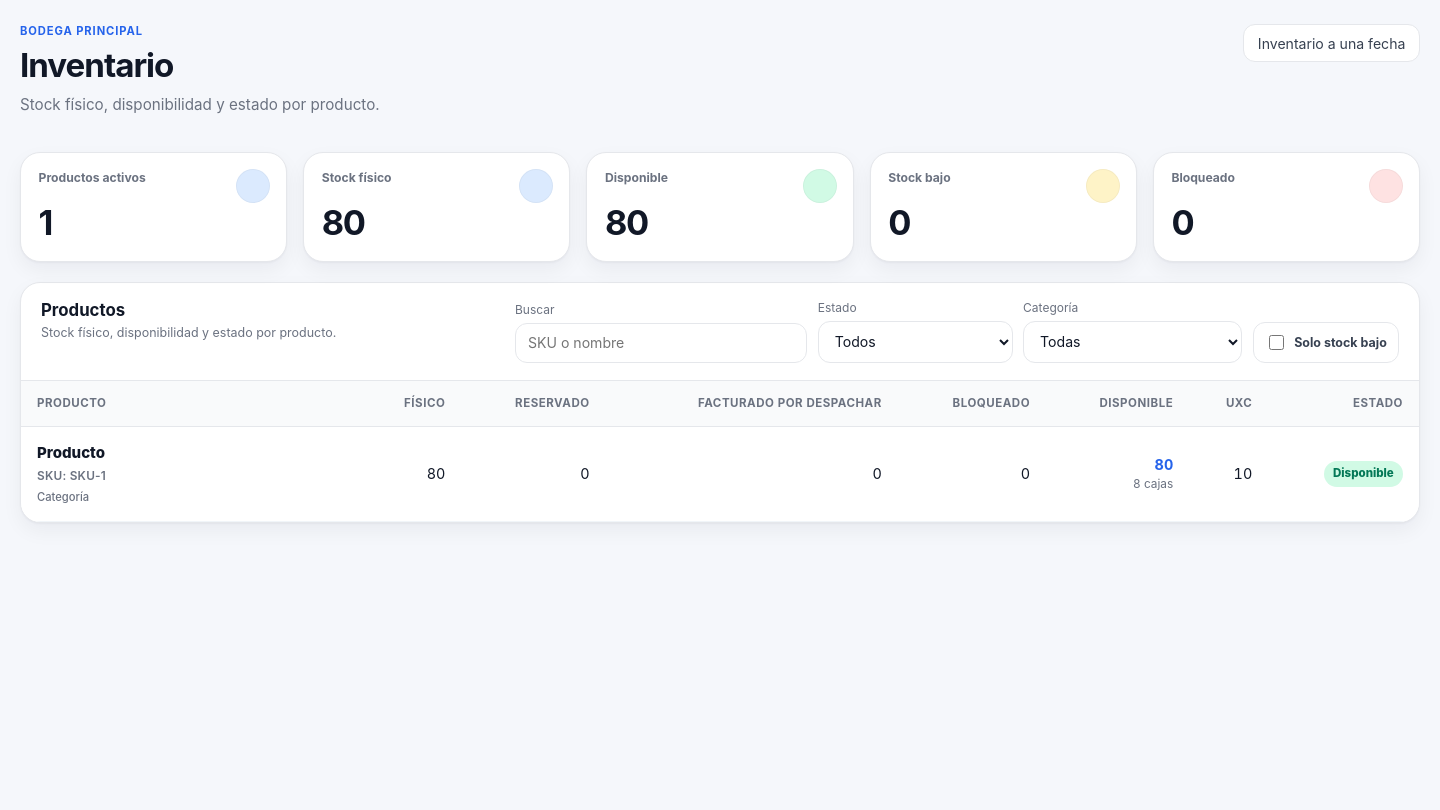
InventoryCenter › consulta el inventario histórico y abre el saldo cronológico
Click the button "Inventario a una fecha" at (1332, 43), box [1243,24,1420,62]
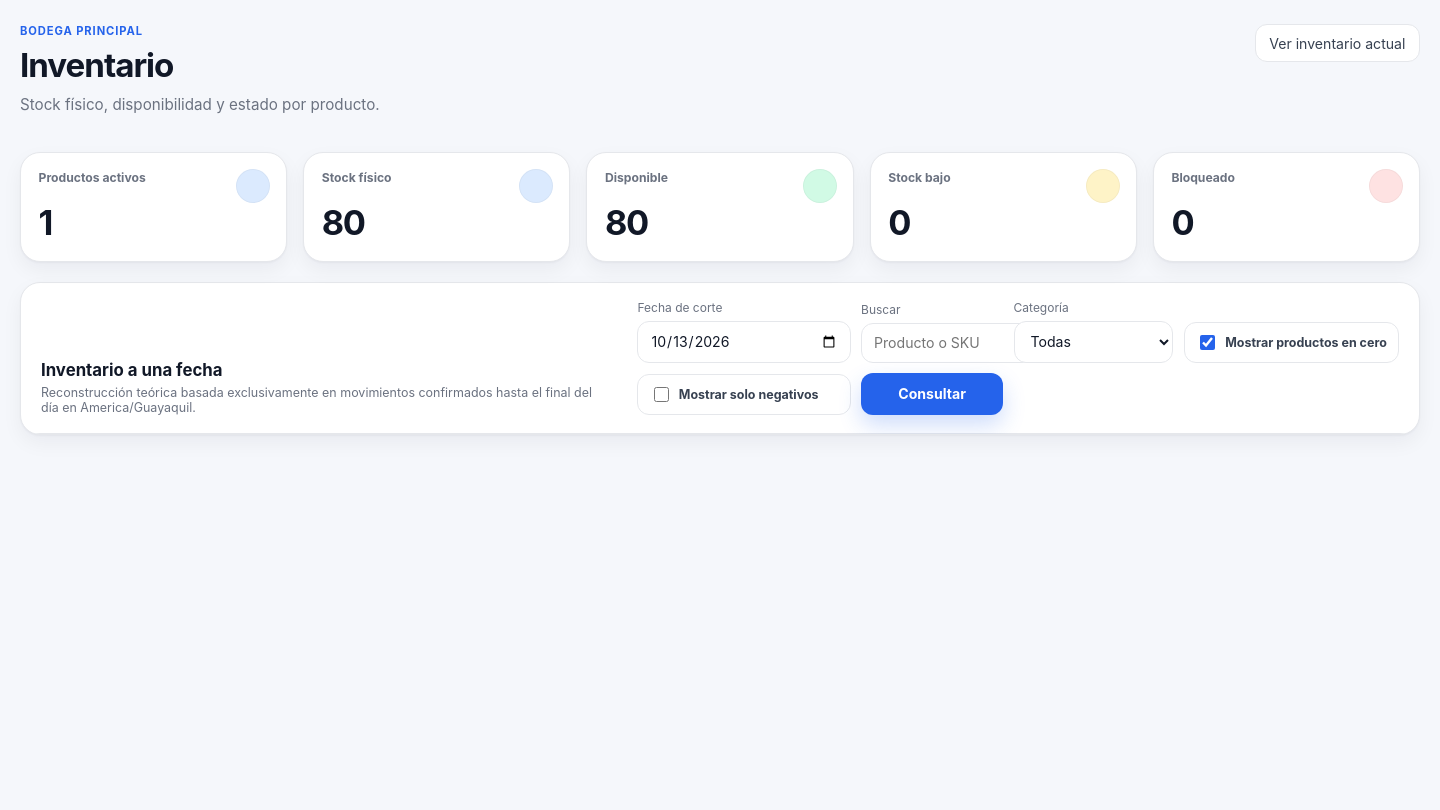
Type "2026-06-17" into the date field labelled "Fecha de corte" at (744, 342), box [638,321,851,363]
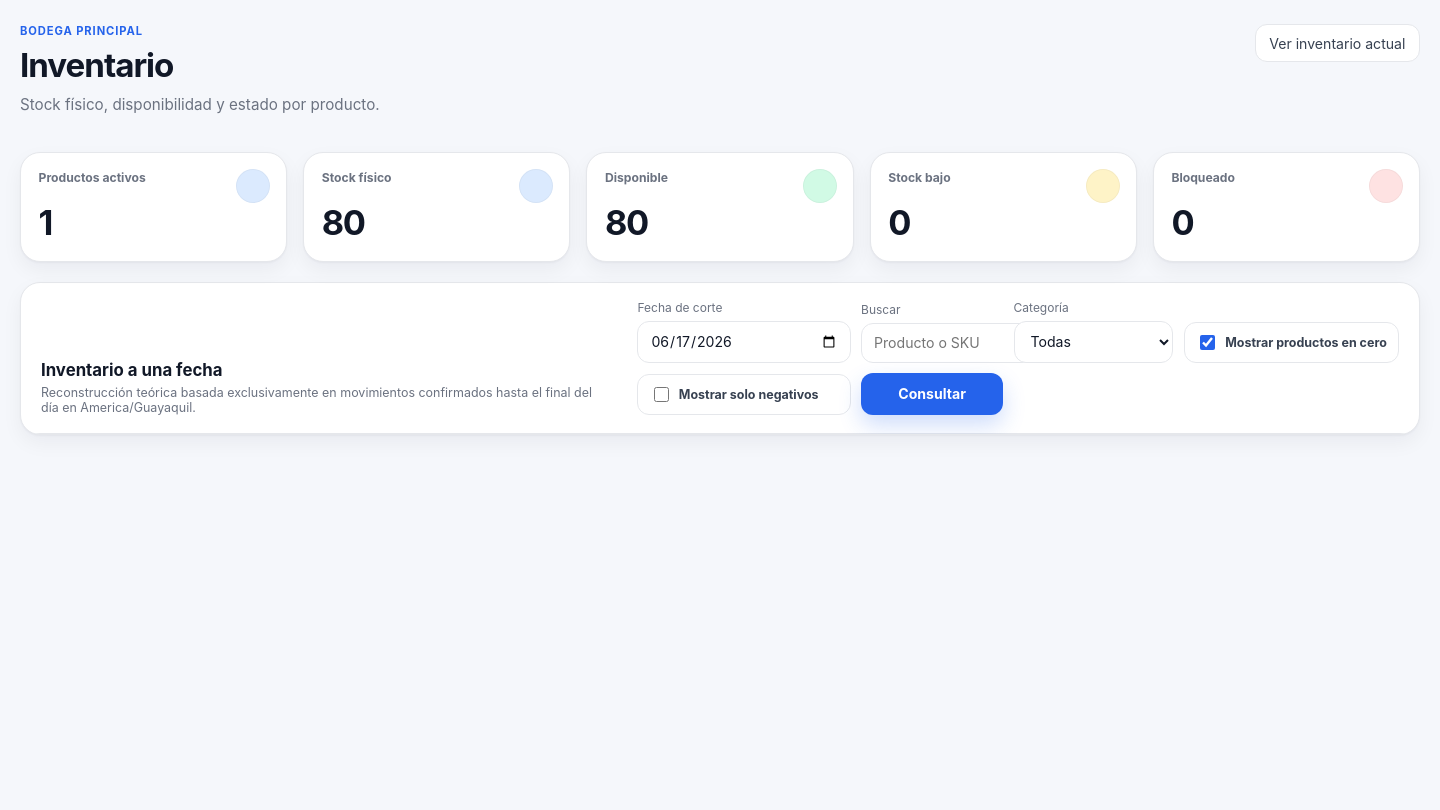
Click the button "Consultar" at (932, 394), box [861,373,1003,415]
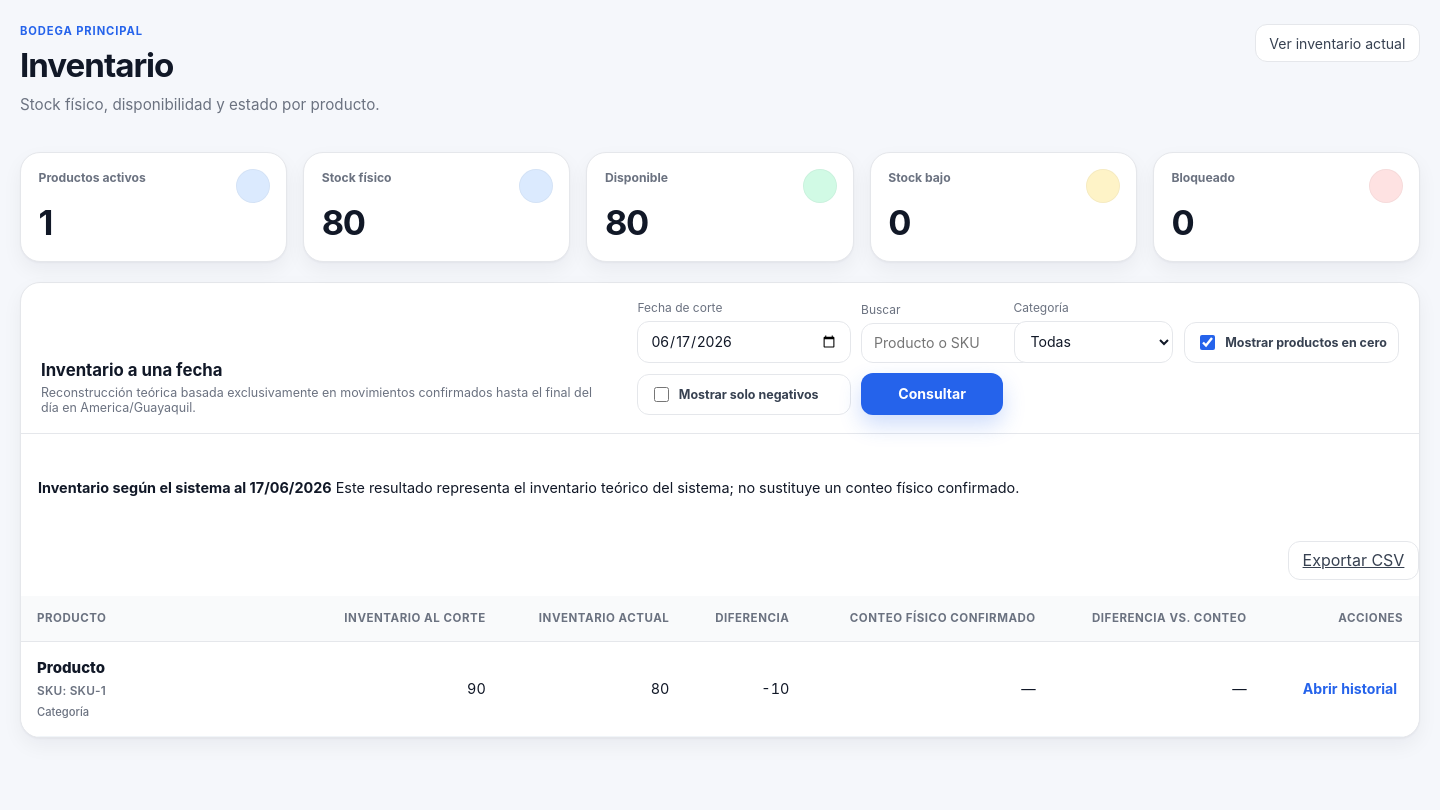
Now the text "Inventario según el sistema al 17/06/2026" is shown, box [38,479,332,496]
Now the text "-10" is shown, box [685,641,805,736]
Click the button "Abrir historial" at (1350, 689), box [1297,678,1403,699]
(page scrolled)
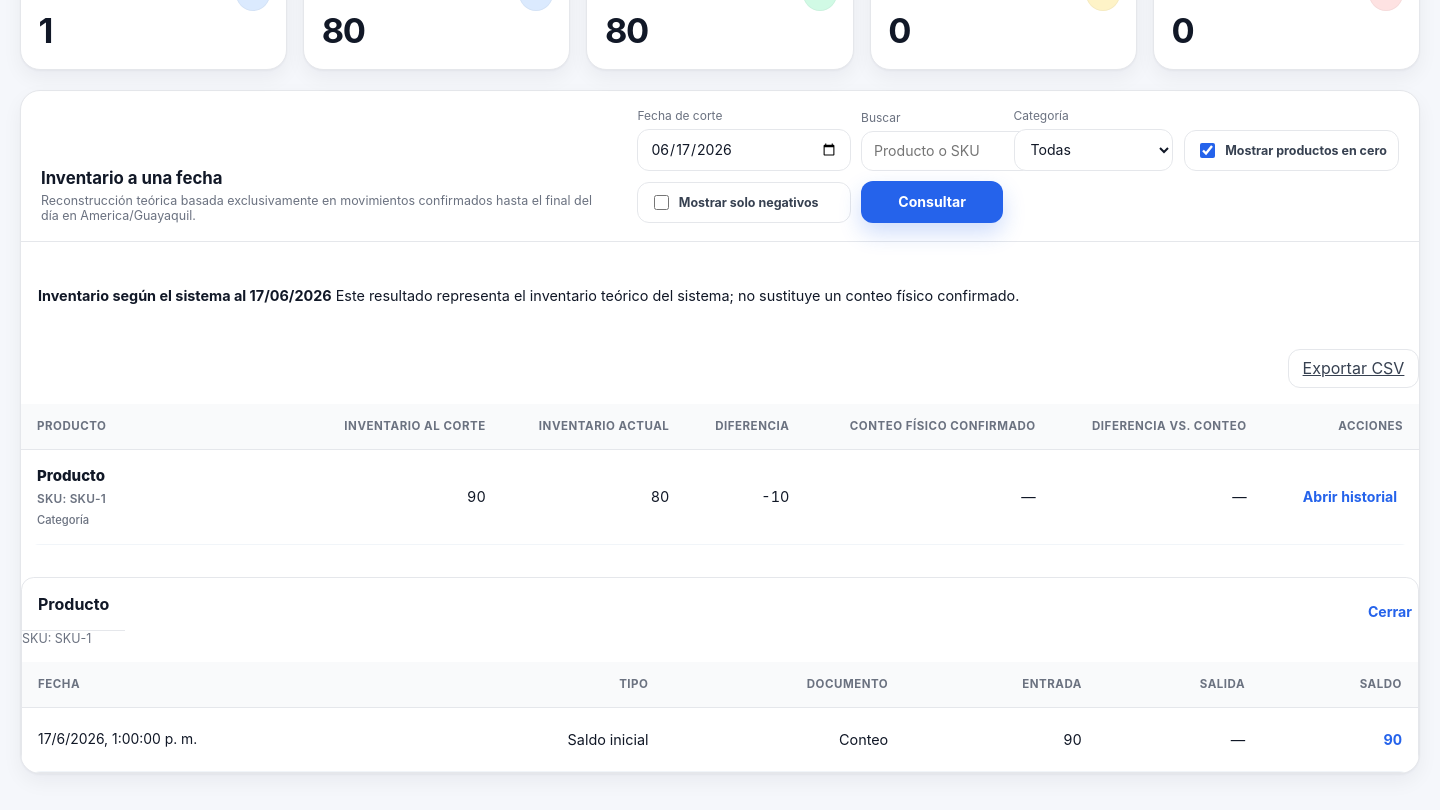
Now the text "Saldo inicial" is shown, box [426,707,664,771]
Now the text "Conteo" is shown, box [664,707,904,771]
